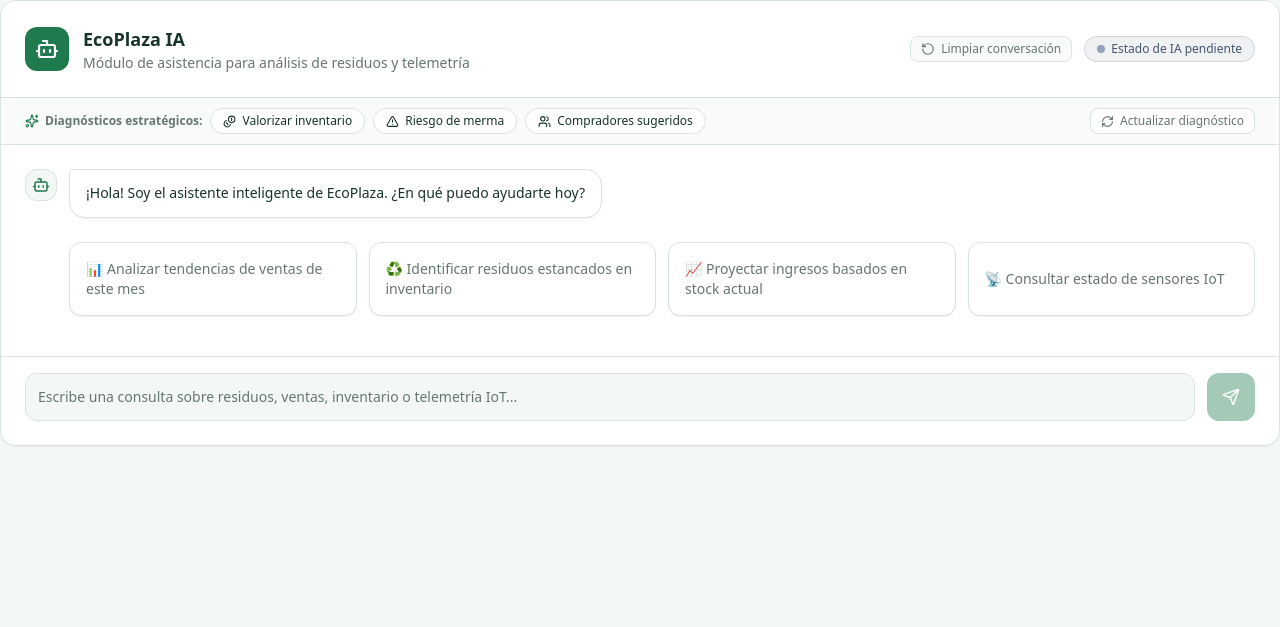
Test: AssistantPanel con Motor de Diagnósticos Estratégicos (Tarea 088) › j) muestra la insignia 'Gemini AI' y telemetría de CTR-BOG-001 cuando la respuesta proviene del motor Gemini
This screenshot has width=1280, height=627.
Replace the text in the field with "¿Cuál es el estado del contenedor CTR-BOG-001?" at coordinates (610, 397), box [38,374,1182,420]
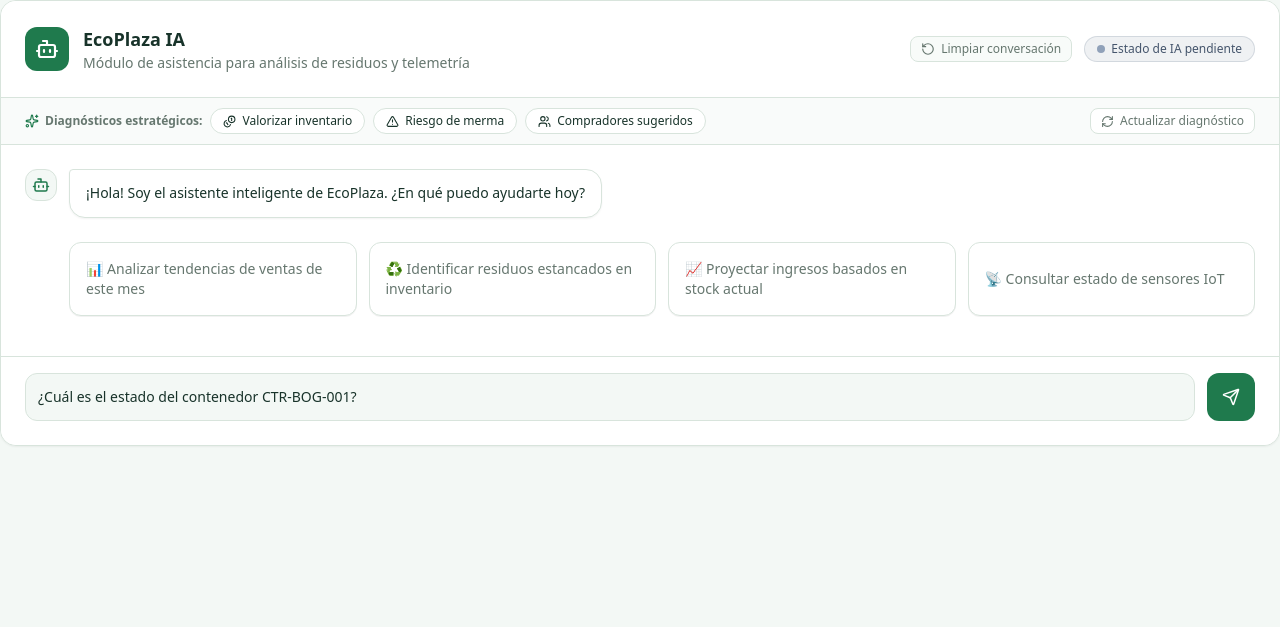
Click the button named "Enviar mensaje" at coordinates (1231, 397), box [1207,373,1255,421]
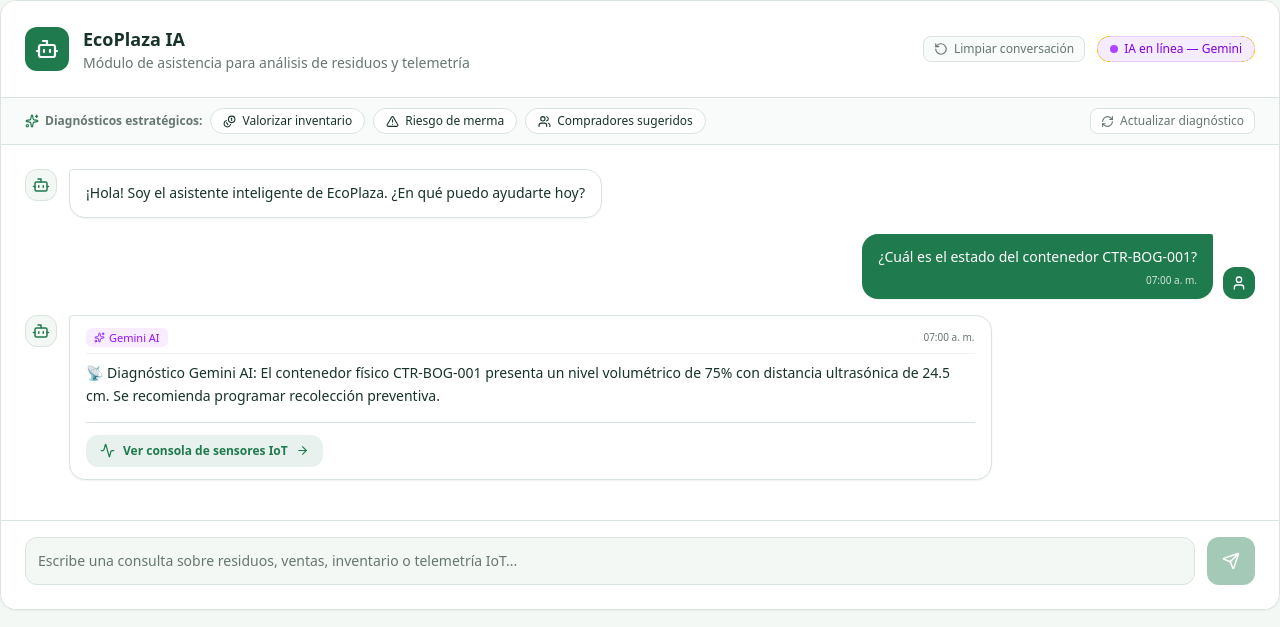
Check: the text "Gemini AI" is shown, box [109,330,160,346]
Check: the text "El contenedor físico CTR-BOG-001 presenta un nivel volumétrico de 75%" is shown, box [86,364,954,405]
Check: the text "¿Cuál es el estado del contenedor CTR-BOG-001?" is shown, box [878,246,1197,269]
